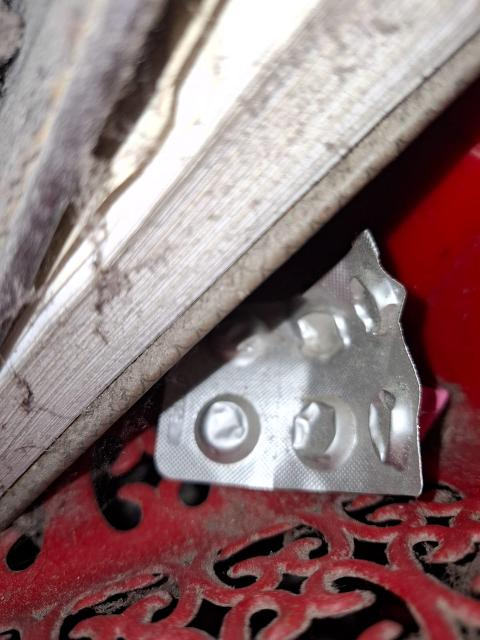medicine: (111, 204, 437, 558)
